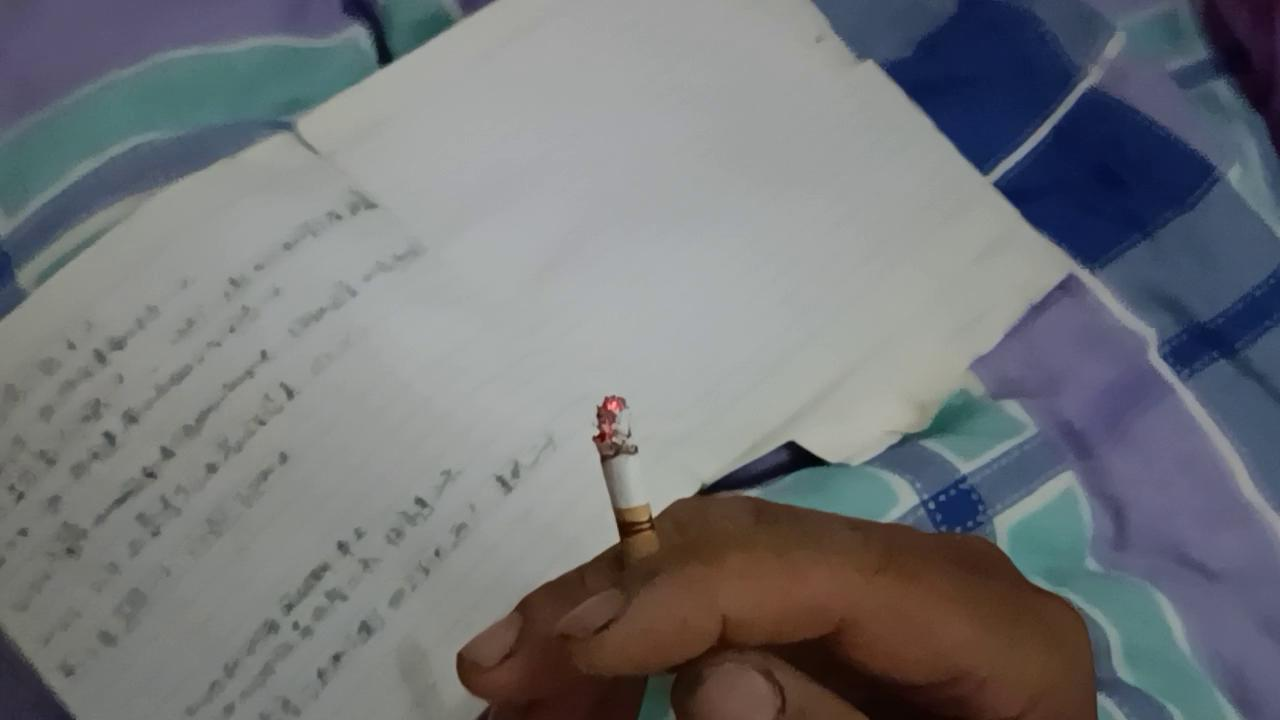smoke: (594, 394, 665, 593)
